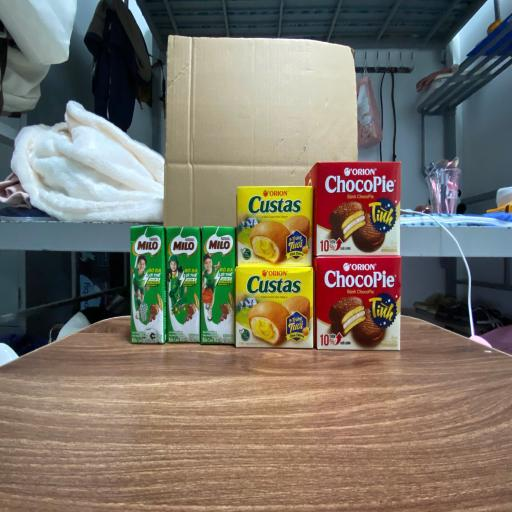chocopie: (305, 161, 401, 255), (315, 255, 401, 350)
custas: (235, 266, 313, 349), (237, 186, 312, 266)
milo: (201, 226, 236, 345), (165, 226, 200, 344), (131, 224, 165, 344)
